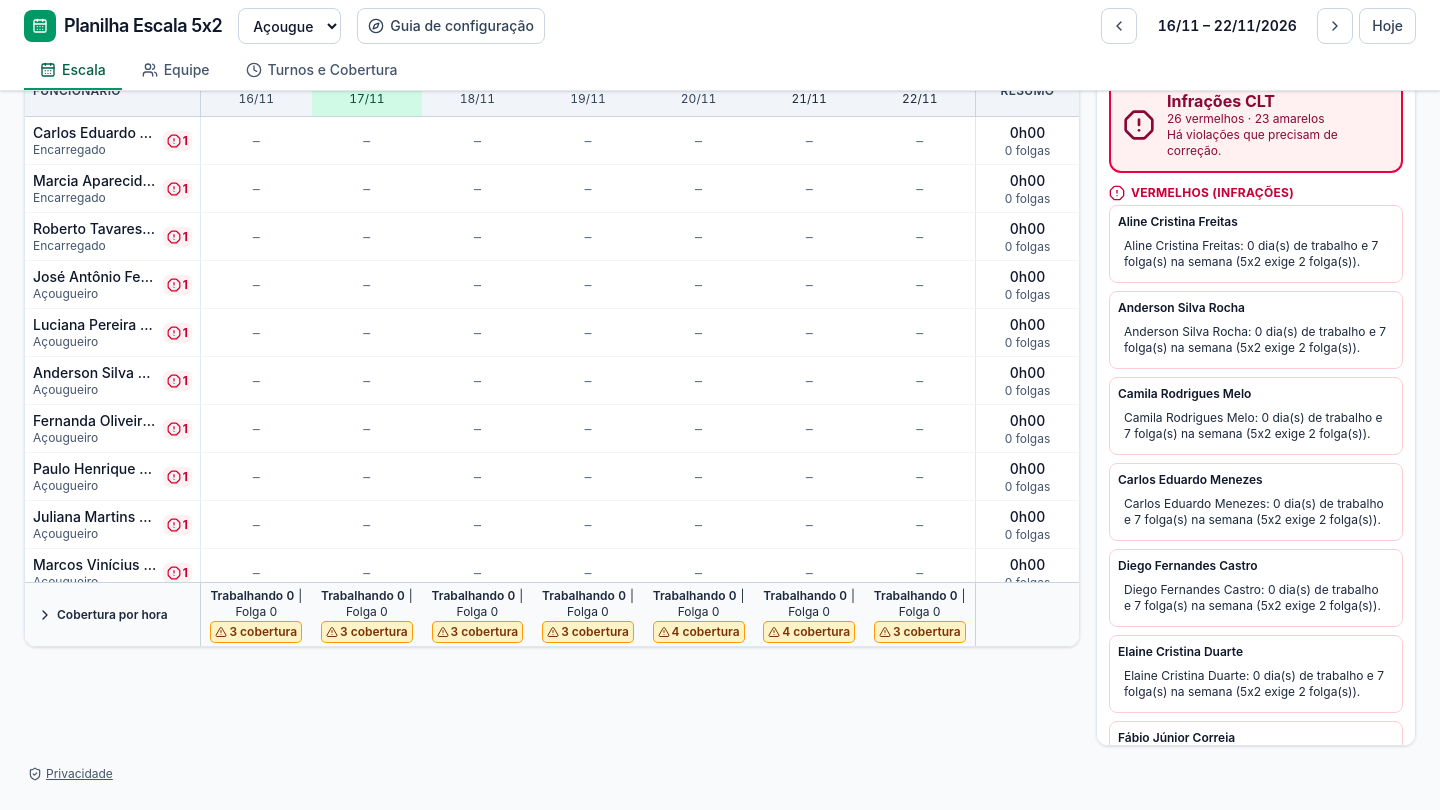
Privacidade (LGPD) › confirmar apaga o localStorage do app e reseta o store (onboarding volta a pending)
This screenshot has width=1440, height=810.
(page scrolled)
What coordinates should you click on to do the following:
click the button "Privacidade"
I would click on:
 (70, 774)
Its box is [24,762,117,786].
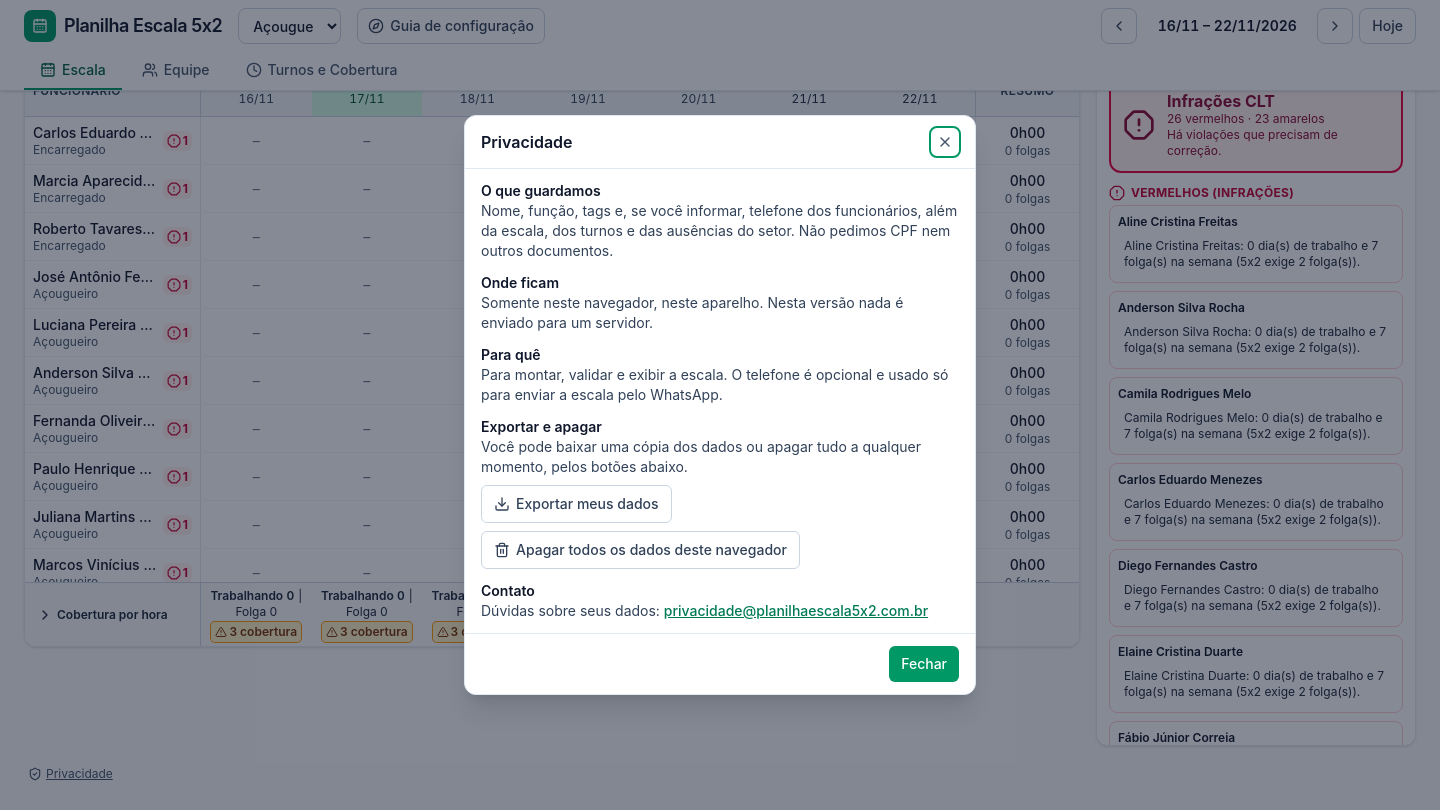
What coordinates should you click on to do the following:
click the button "Apagar todos os dados deste navegador"
I would click on:
 (640, 550)
Its box is [481,531,800,569].
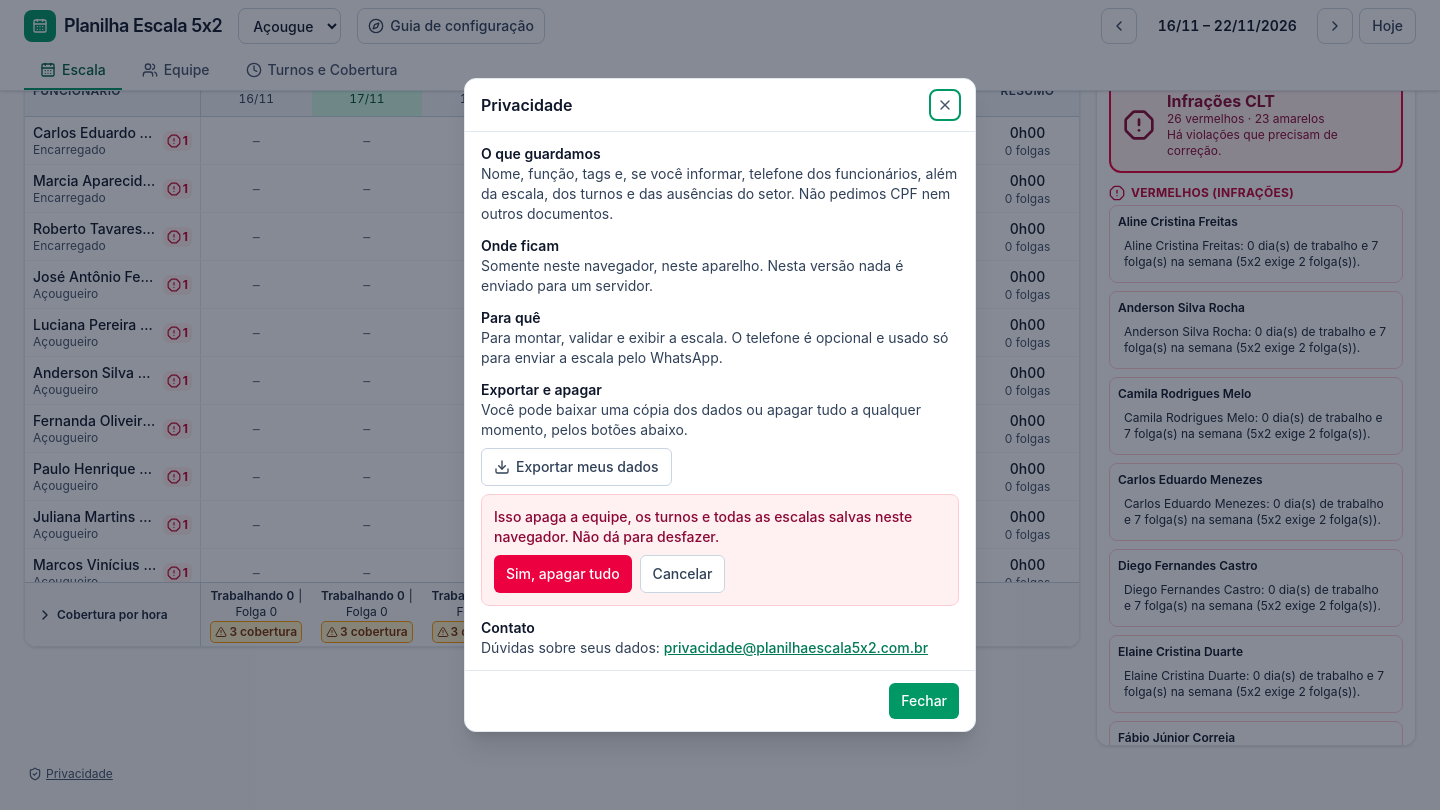
What coordinates should you click on to do the following:
click the button "Sim, apagar tudo"
I would click on:
 (563, 574)
Its box is [494,555,632,593].
(page scrolled)
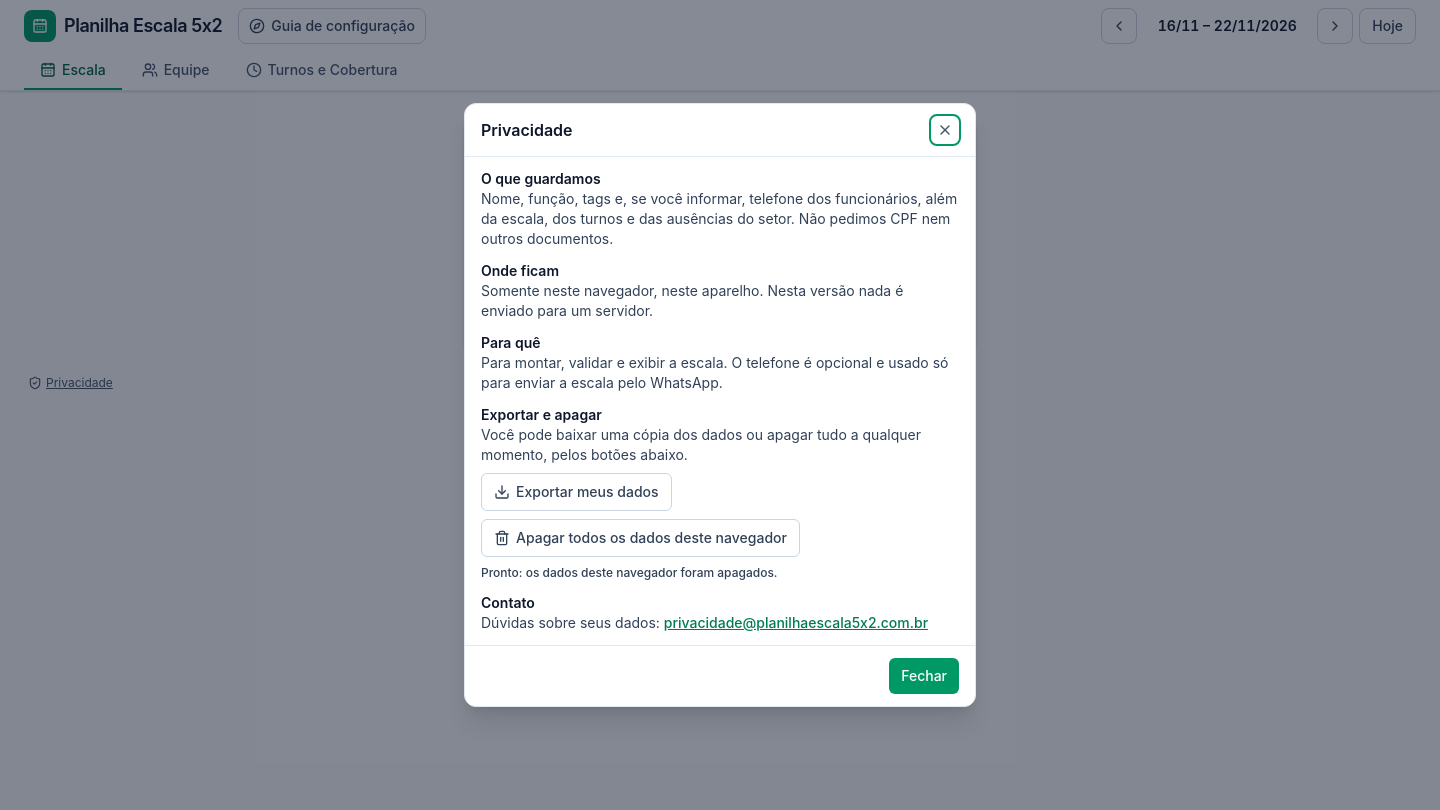
Now the message shows "apagados", box [481,565,778,580]
